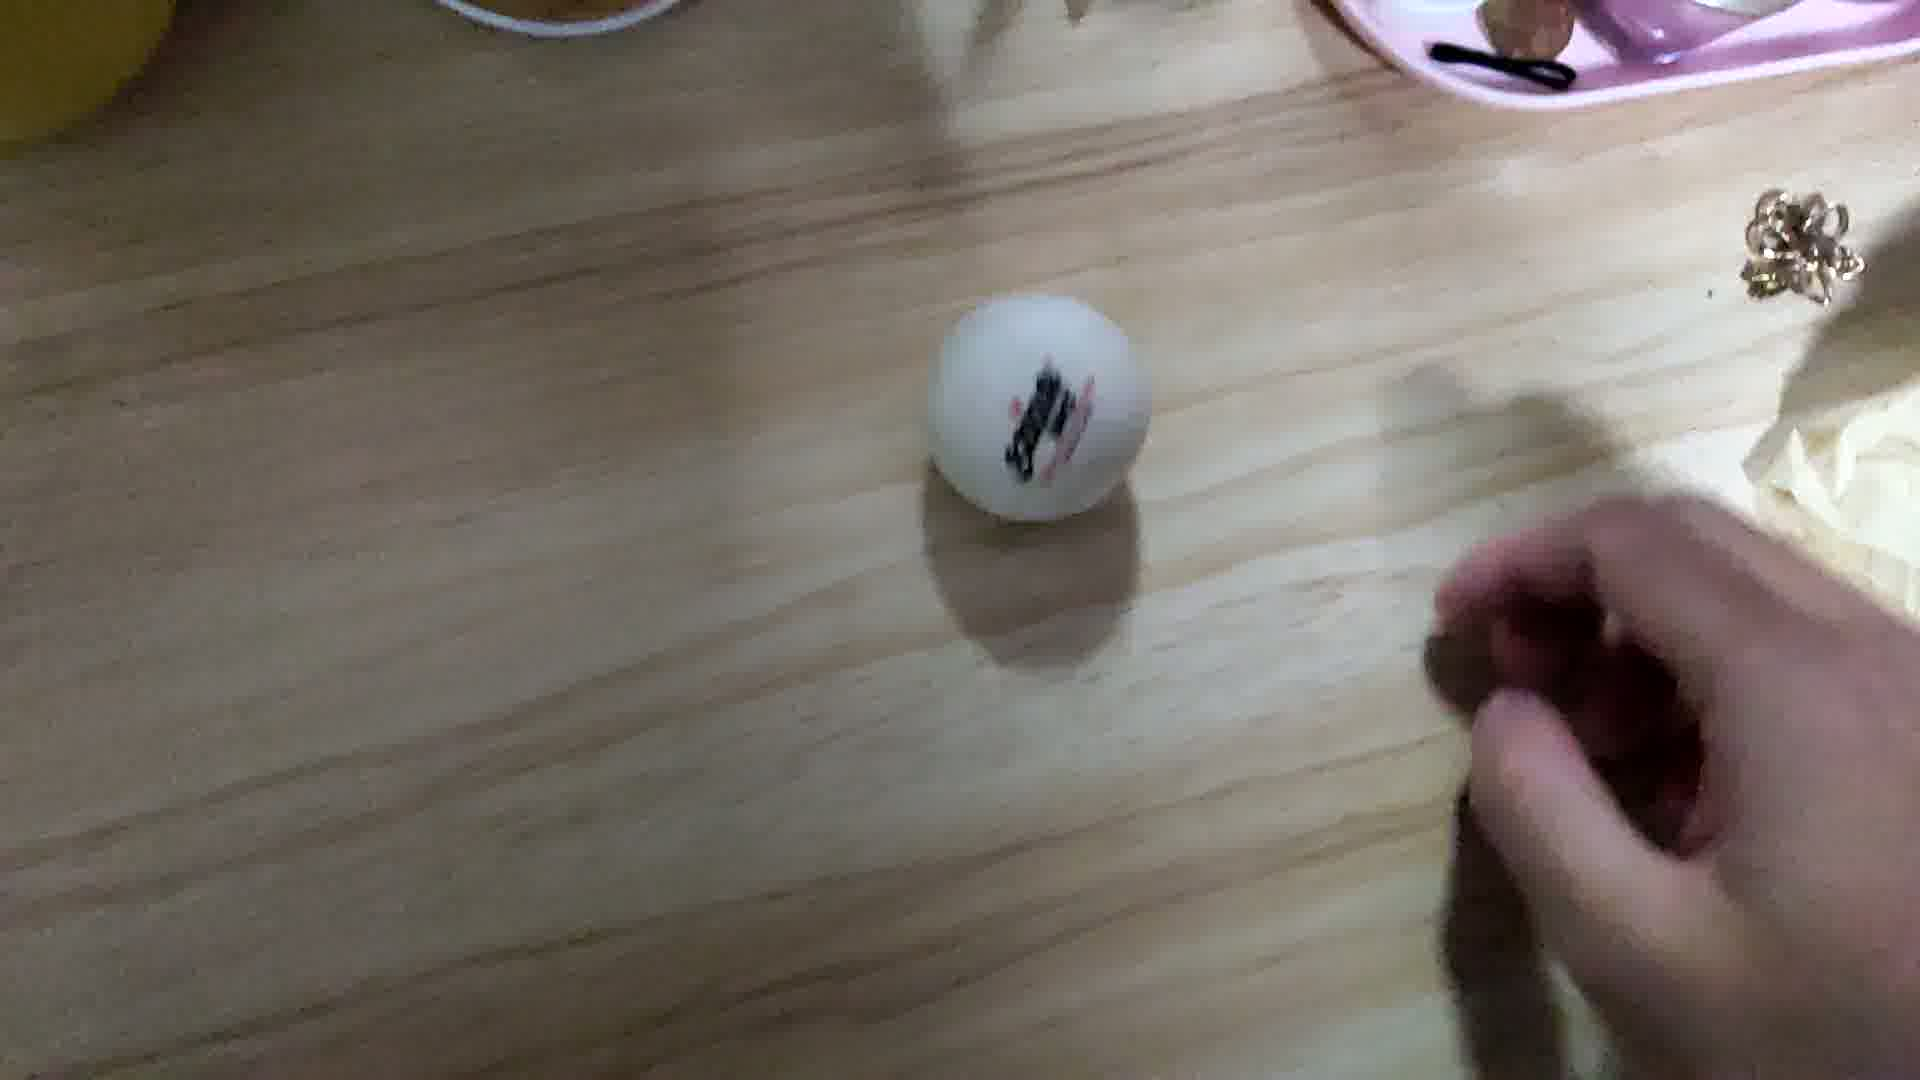Ball: (930, 290, 1156, 524)
